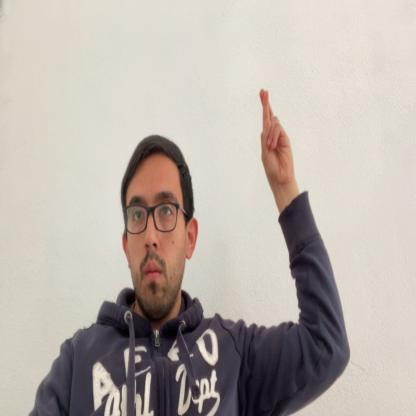R: (259, 88, 296, 183)
